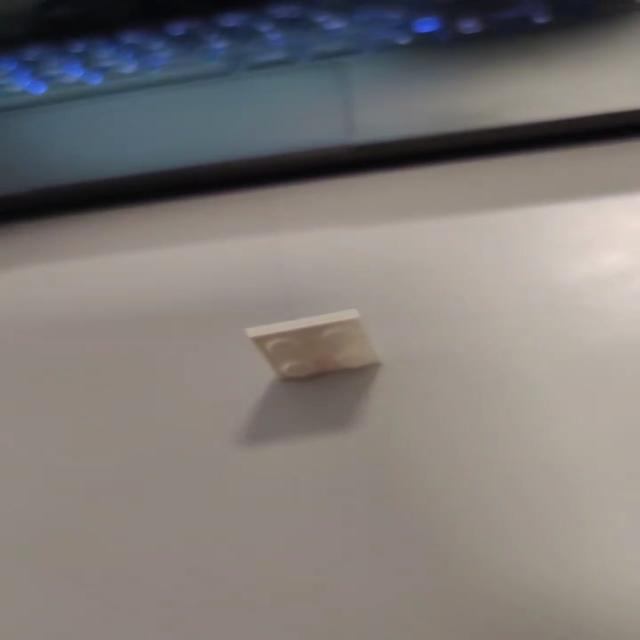C2x2x0: (245, 308, 387, 385)
